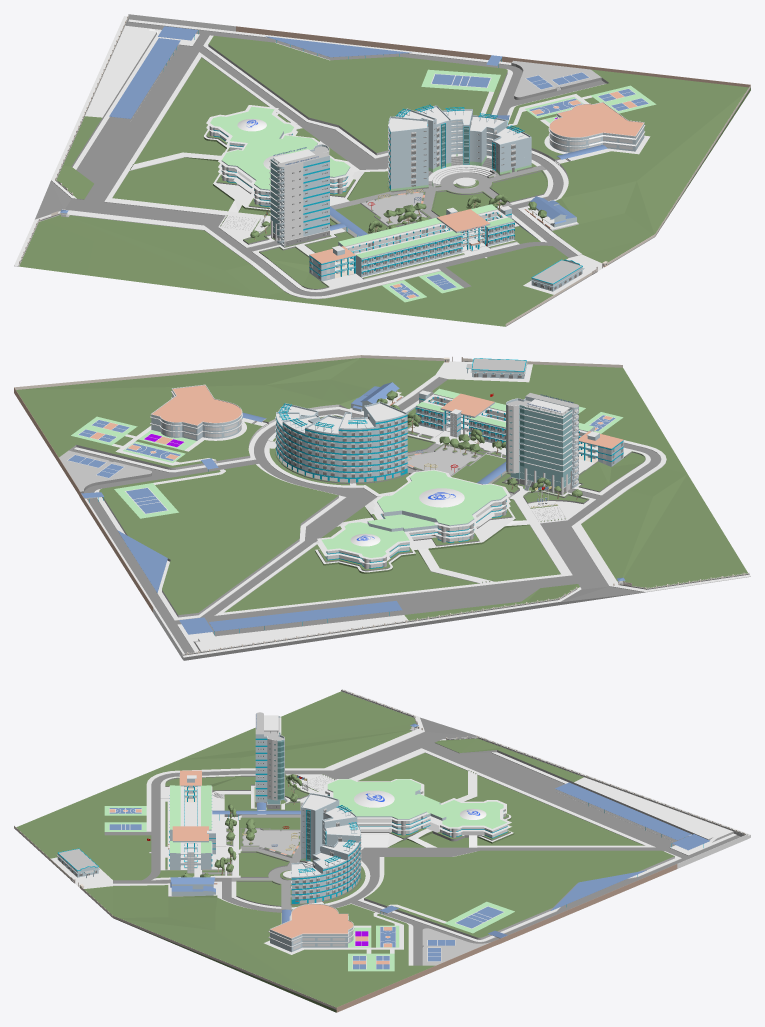
The model's file is map.glb.
3 views of the same model, one above another, from view 1: azimuth 30°, elevation 25°; view 2: azimuth 150°, elevation 25°; view 3: azimuth 270°, elevation 25° (orthographic). The views are drawn at different scales.
Parts seen in each view (by area): view 1: map; view 2: map; view 3: map.
Part boxes in pixels (<box>): map: <box>14,14,750,326</box>; map: <box>14,355,750,660</box>; map: <box>14,689,750,1012</box>.
Size of the model in its own units: 16.34 by 1.82 by 15.76.
Materials: 24 (1 with a texture image).
